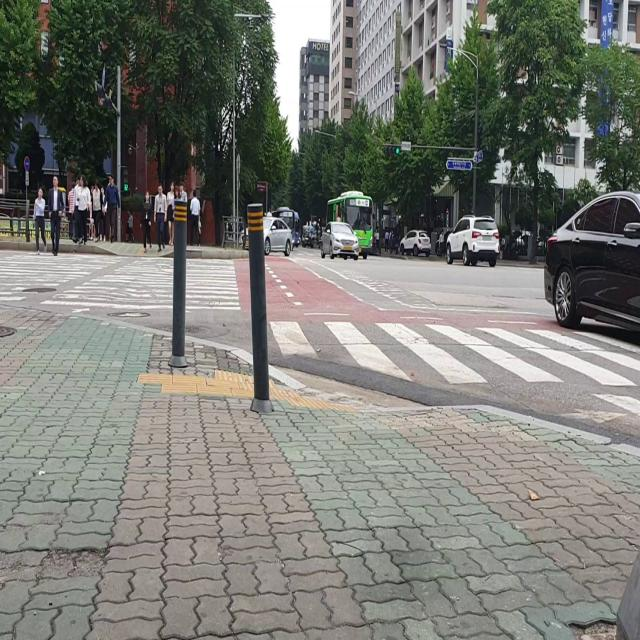초록불: (123, 166, 129, 194)
횡단보도: (267, 319, 640, 417), (0, 248, 241, 314)
